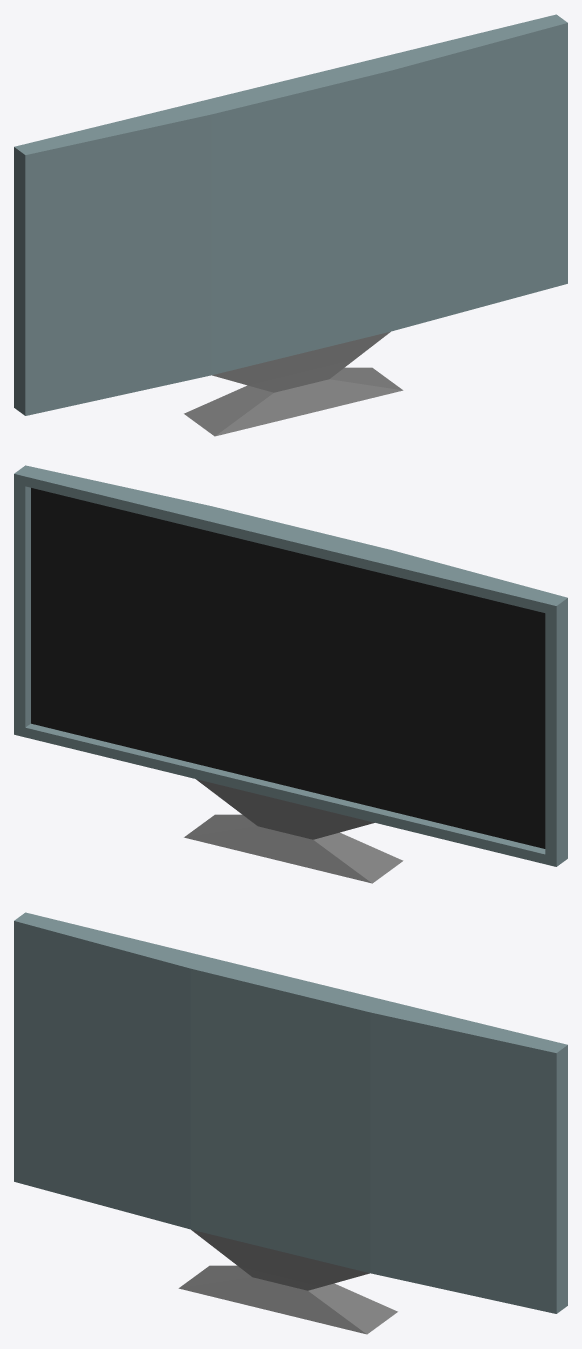
File: Monitor1.fbx
3 views of the same model, one above another, from view 1: azimuth 30°, elevation 25°; view 2: azimuth 150°, elevation 25°; view 3: azimuth 330°, elevation 25° (orthographic).
Parts seen in each view (by area): view 1: Monitor1; view 2: Monitor1; view 3: Monitor1.
Part boxes in pixels (box(x1,y1,x2,y2)): Monitor1: box(14, 14, 567, 436); Monitor1: box(14, 465, 567, 883); Monitor1: box(14, 912, 567, 1334).
Size of the model in its own units: 4.67 by 2.59 by 0.4634.
